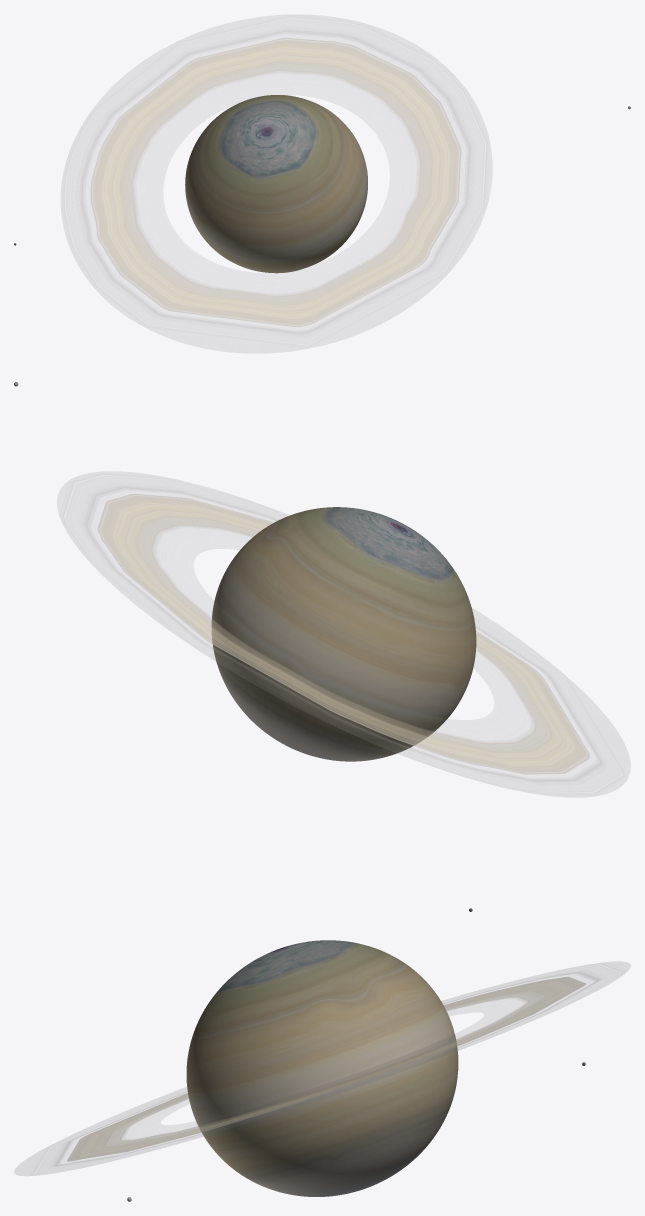
File: saturn.glb
3 renders of one model, top to bottom at view 1: azimuth 30°, elevation 25°; view 2: azimuth 150°, elevation 25°; view 3: azimuth 270°, elevation 25°, orthographic. The views are drawn at different scales.
Visible parts, largest first — view 1: Saturn2_B_saturn2_B_0, 0; view 2: 0, Saturn2_B_saturn2_B_0; view 3: 0, Saturn2_B_saturn2_B_0.
Boxes of the visible parts, x1=… form: Saturn2_B_saturn2_B_0: x1=61, y1=15, x2=491, y2=352; 0: x1=185, y1=95, x2=367, y2=273; 0: x1=211, y1=507, x2=476, y2=761; Saturn2_B_saturn2_B_0: x1=57, y1=472, x2=630, y2=796; 0: x1=186, y1=940, x2=458, y2=1196; Saturn2_B_saturn2_B_0: x1=14, y1=962, x2=630, y2=1175.
Bounding box in the file's own units: 3556 × 1288 × 2714.
Materials: 4 (4 with a texture image).
